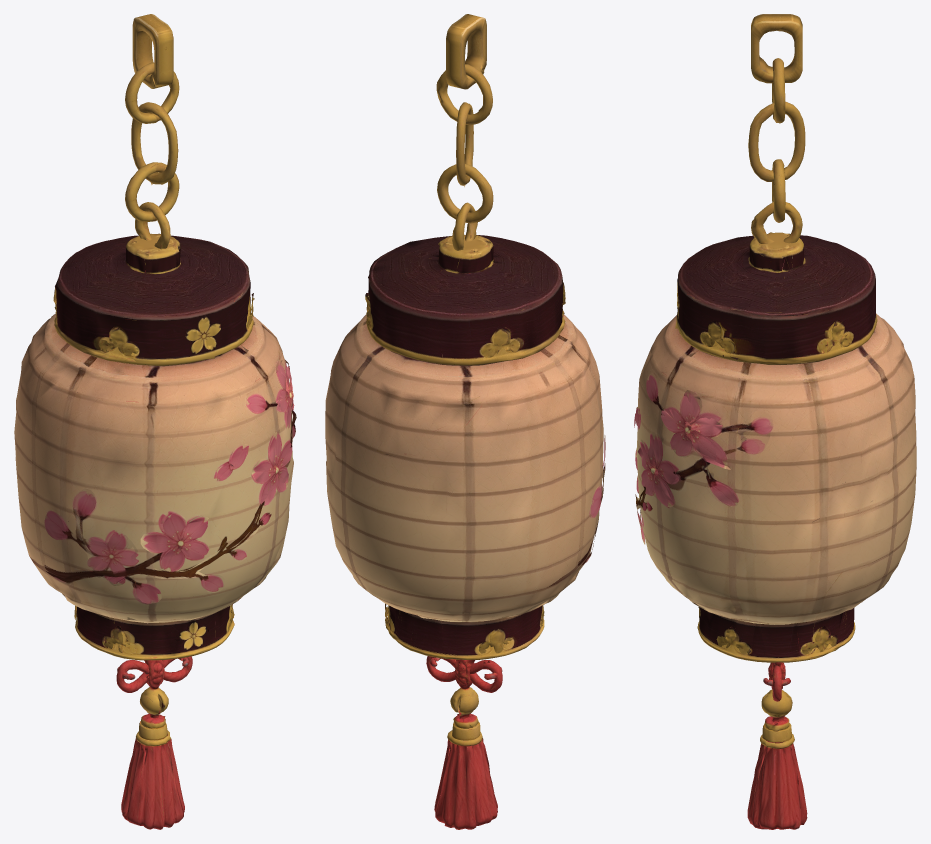
Rendered from Meshy_AI_Cherry_Blossom_Lantern_20261118_texture.fbx.
The picture shows the model from 3 angles, left to right: view 1: azimuth 30°, elevation 25°; view 2: azimuth 150°, elevation 25°; view 3: azimuth 270°, elevation 25°; orthographic projection.
Visible parts, largest first — view 1: Mesh_0; view 2: Mesh_0; view 3: Mesh_0.
Boxes of the visible parts, x1,y1,x2,y2 form: Mesh_0: [14, 14, 296, 829]; Mesh_0: [325, 14, 605, 829]; Mesh_0: [634, 14, 916, 829].
Bounding box in the file's own units: 29.83 × 95.07 × 30.13.
1 material, 1 textured.
